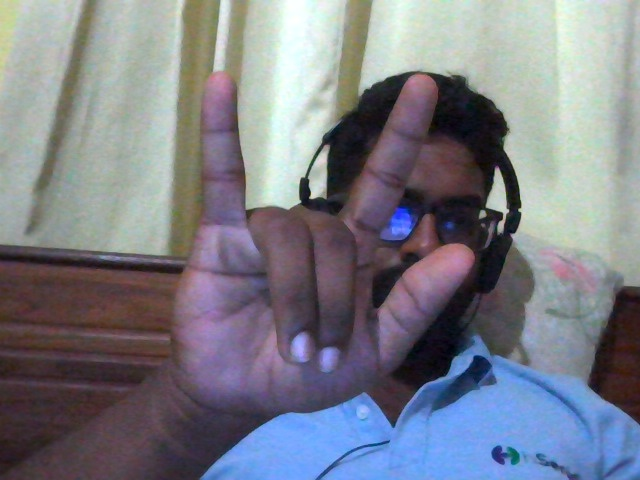I Love You: (120, 38, 501, 427)
